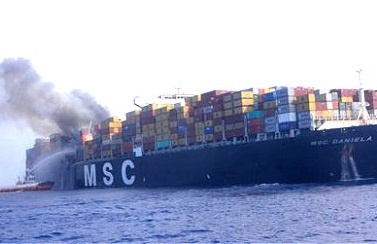Cargoship: (19, 72, 377, 191)
otherboat: (1, 166, 58, 196)
